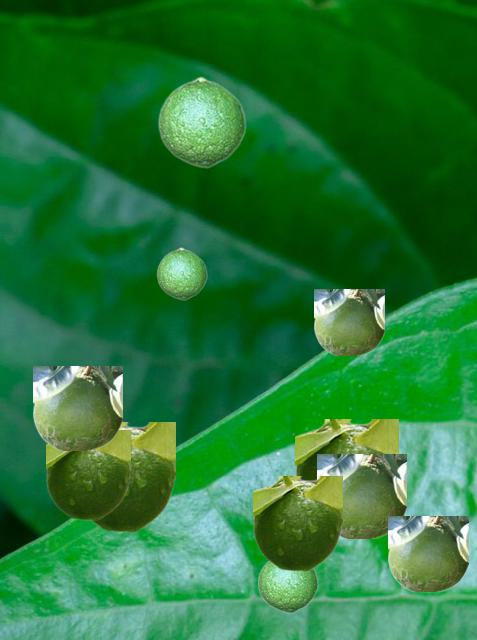dalandan: (89, 422, 174, 531), (253, 476, 341, 570), (157, 76, 245, 167), (46, 430, 129, 519), (317, 454, 405, 537), (33, 366, 121, 449), (295, 419, 397, 478), (388, 516, 467, 590), (314, 289, 383, 354), (257, 561, 317, 612), (156, 247, 206, 299)
